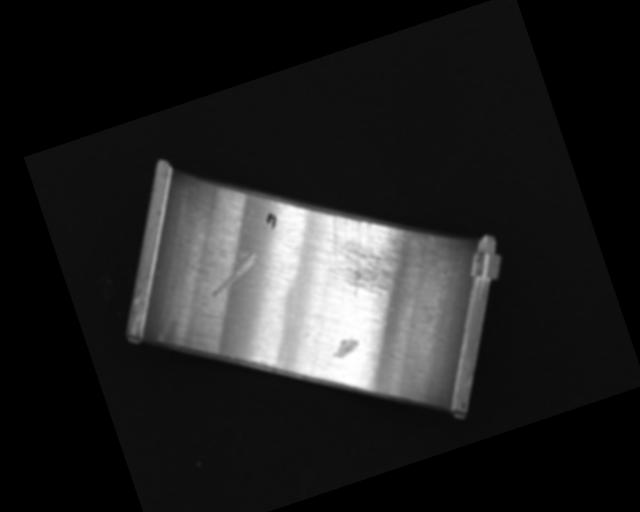blot: (263, 210, 280, 231)
bruise: (328, 334, 362, 360)
nick: (234, 193, 284, 275), (204, 249, 265, 297)
scratch: (310, 187, 443, 314)
